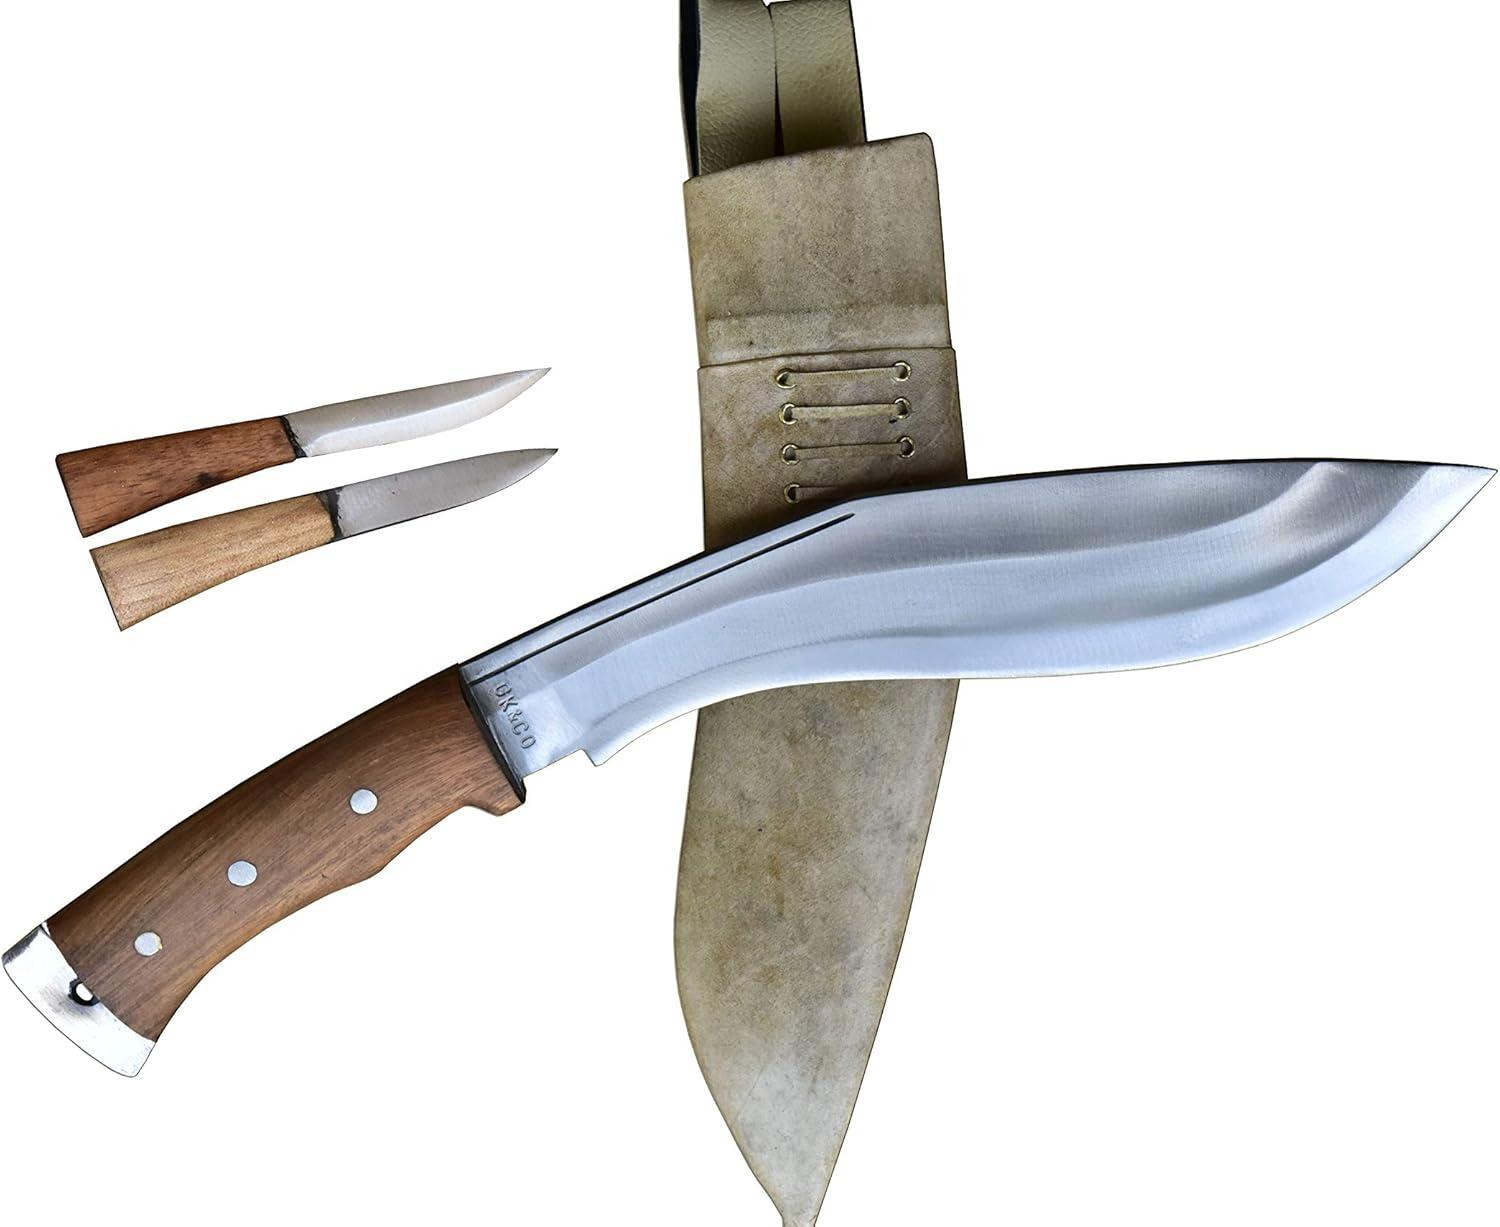faca: (91, 450, 554, 628), (57, 371, 547, 537)
